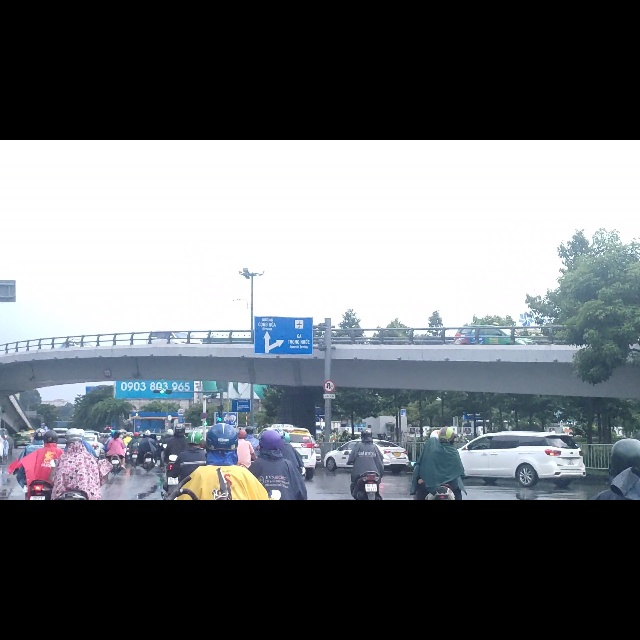bien_chi_dan: (324, 427, 335, 450)
